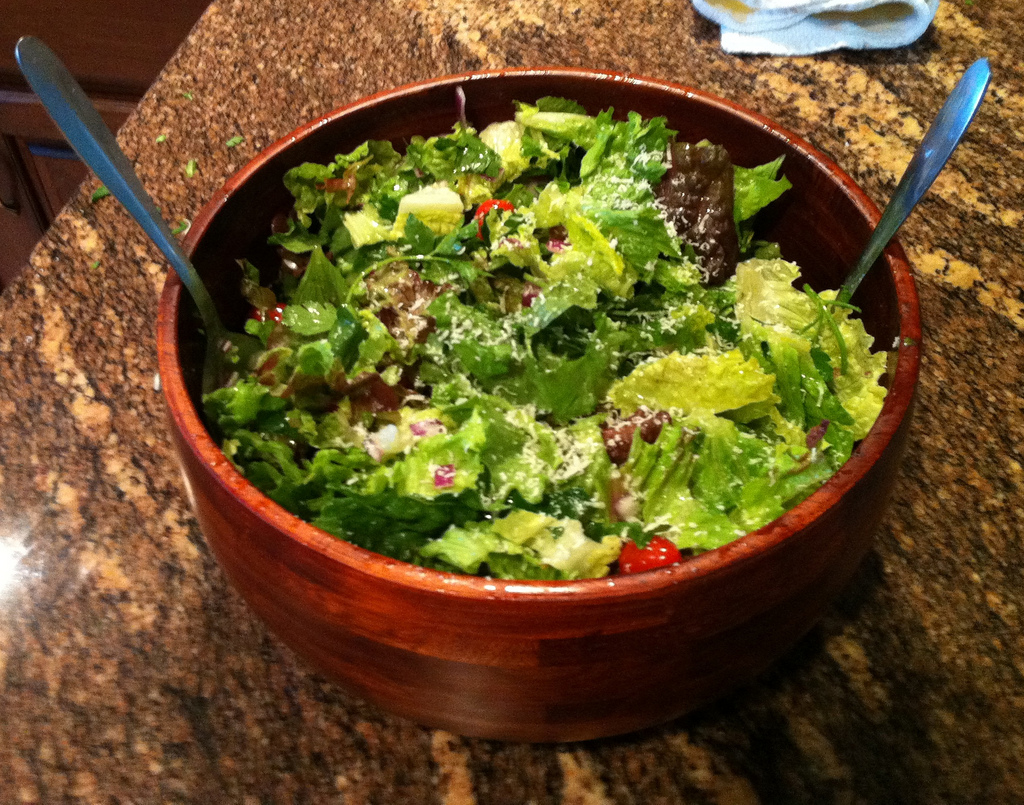chopped lettuce: (194, 118, 885, 576)
